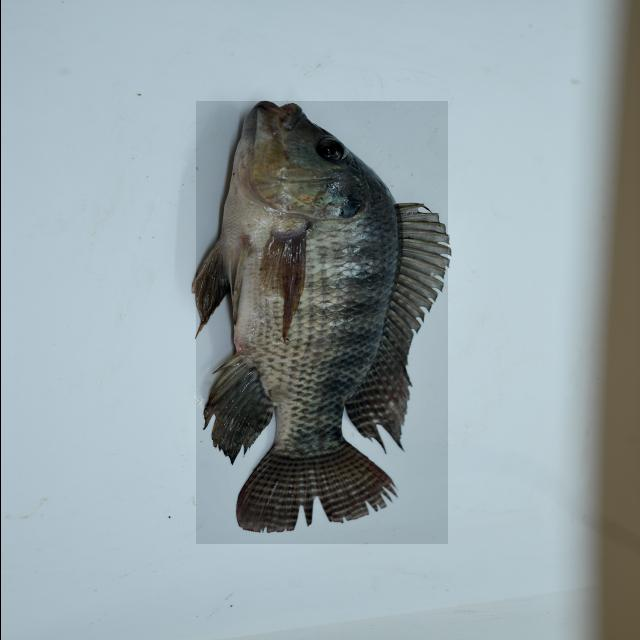Healthy Fish: (195, 101, 447, 544)
